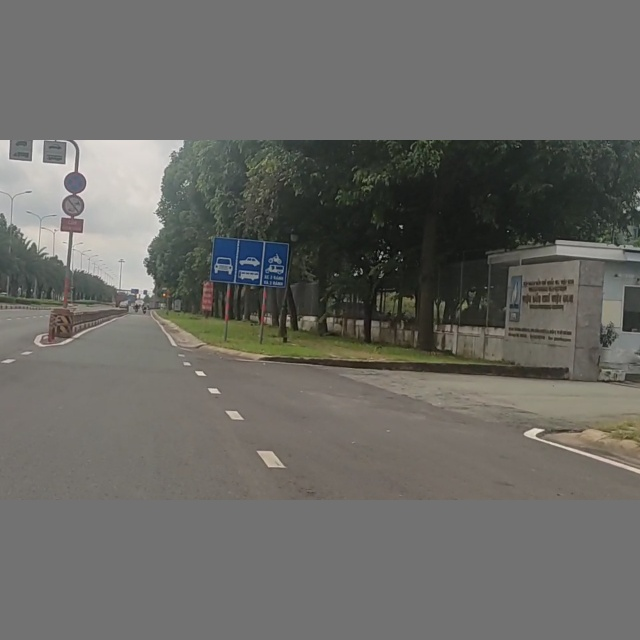P.111: (60, 193, 86, 217)
P.130: (64, 171, 86, 193)
R.415a: (210, 235, 289, 287)
